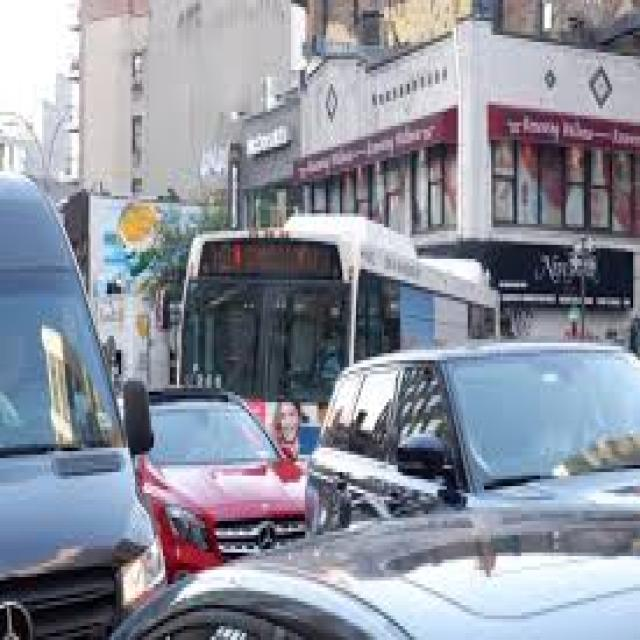bus: (182, 217, 498, 458)
car: (114, 472, 638, 640), (0, 175, 168, 640), (307, 346, 638, 532), (137, 388, 303, 581)
